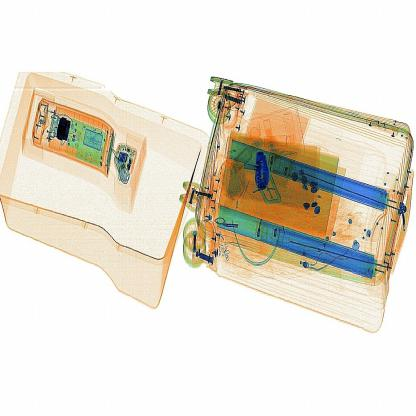scissors: (250, 146, 276, 202)
